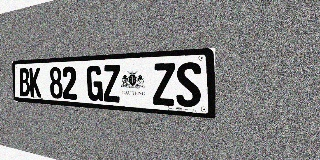2: (62, 66, 77, 100)
8: (49, 67, 63, 99)
B: (19, 68, 30, 97)
G: (86, 65, 103, 101)
K: (29, 68, 41, 97)
S: (176, 62, 201, 108)
Z: (152, 63, 175, 106), (103, 65, 121, 103)
